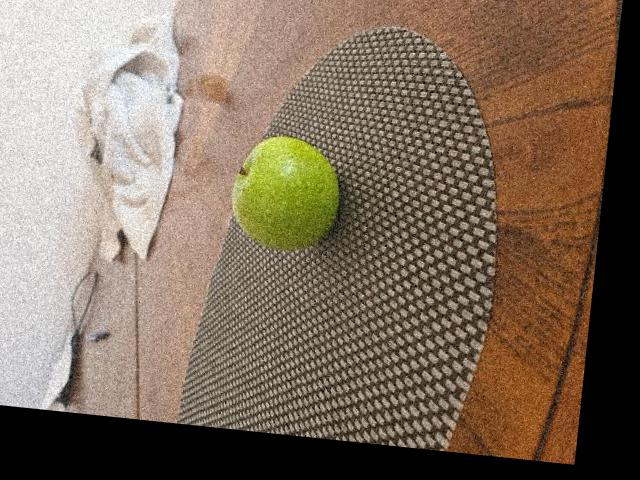apple: (222, 141, 343, 246)
